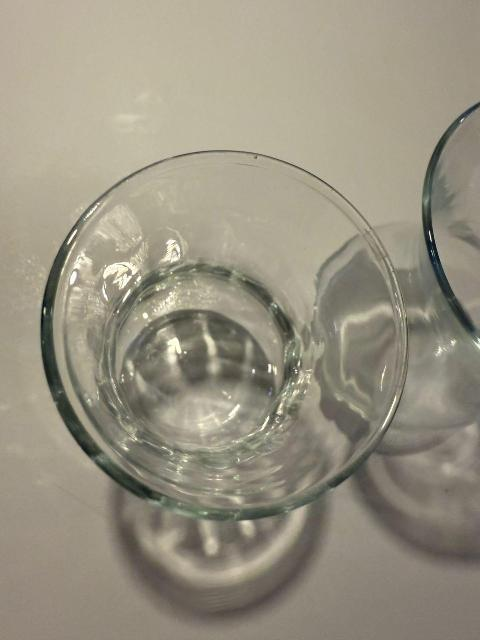Cam: (31, 143, 420, 528), (379, 81, 480, 441)
